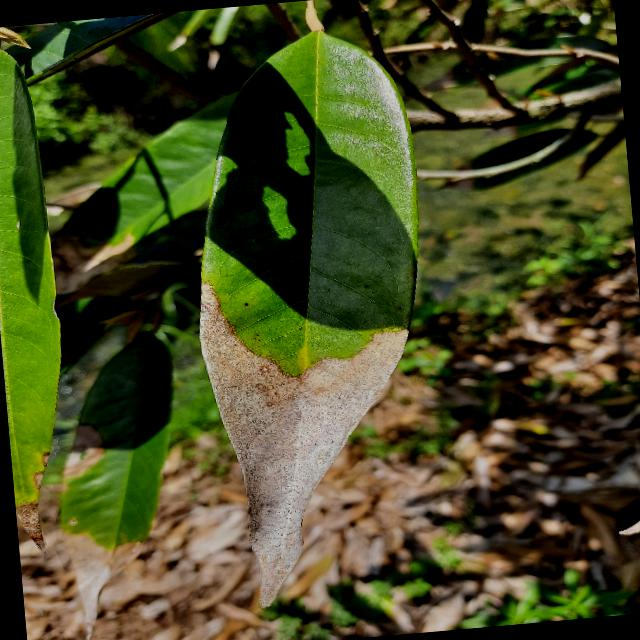Leaf Blight: (165, 10, 461, 631)
